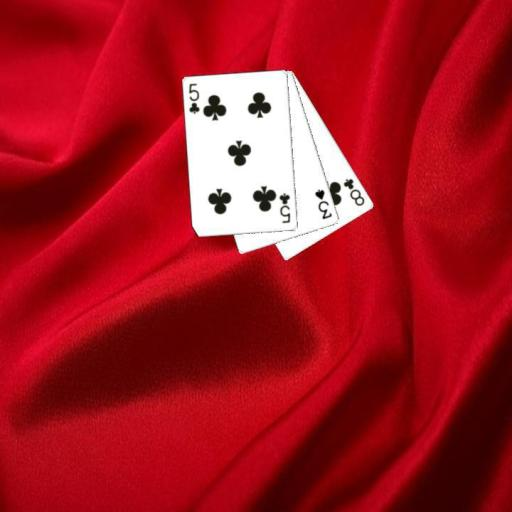3S: (312, 187, 334, 221)
5C: (276, 191, 292, 225), (186, 80, 201, 116)
8C: (341, 175, 366, 208)
